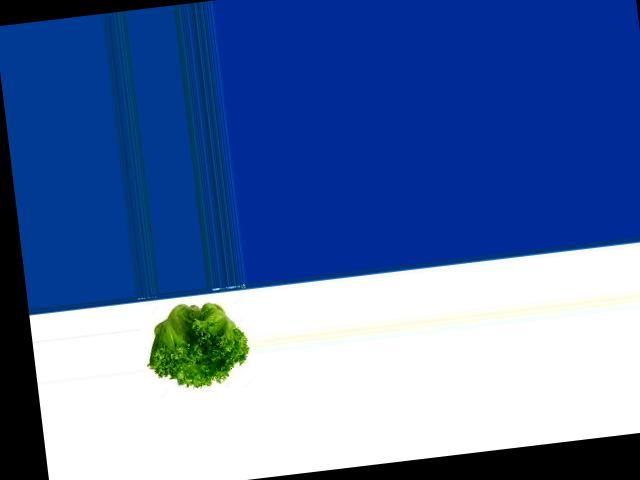lettuce: (144, 291, 253, 395)
